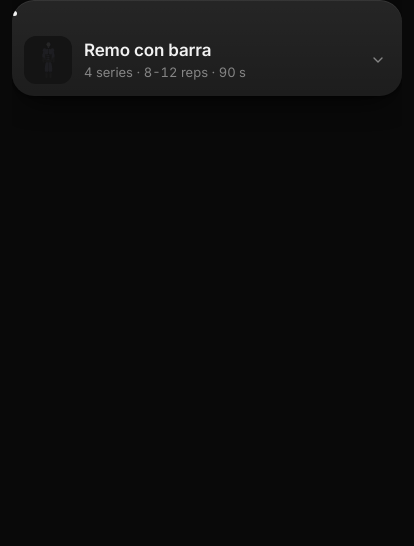
Test case: fila del editor de rutina › «Otro» abre un contador libre y guarda «105s»; el valor rápido elegido no se reescribe
Later steps or results of the test are not shown.
Click the button "Remo con barra 4 series · 8-12 reps · 90 s" at (207, 60), box [12,24,402,96]
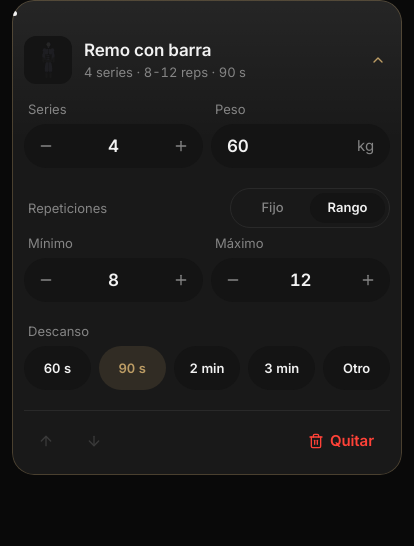
Click the button with aria-label "Otro descanso" at (357, 368), box [323,346,390,390]
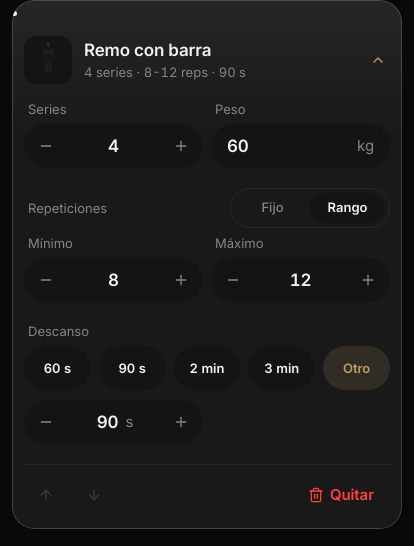
Result: the field named "Descanso en segundos" holds "90" at [94,400,122,444]
